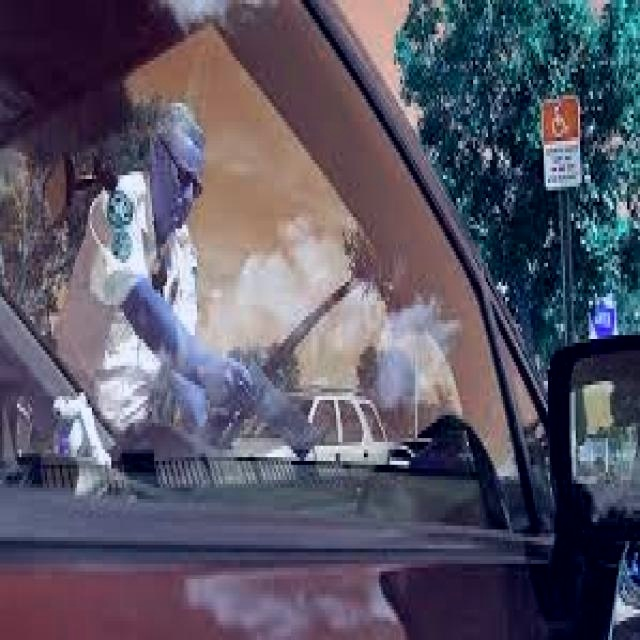ISA: (549, 102, 570, 139)
